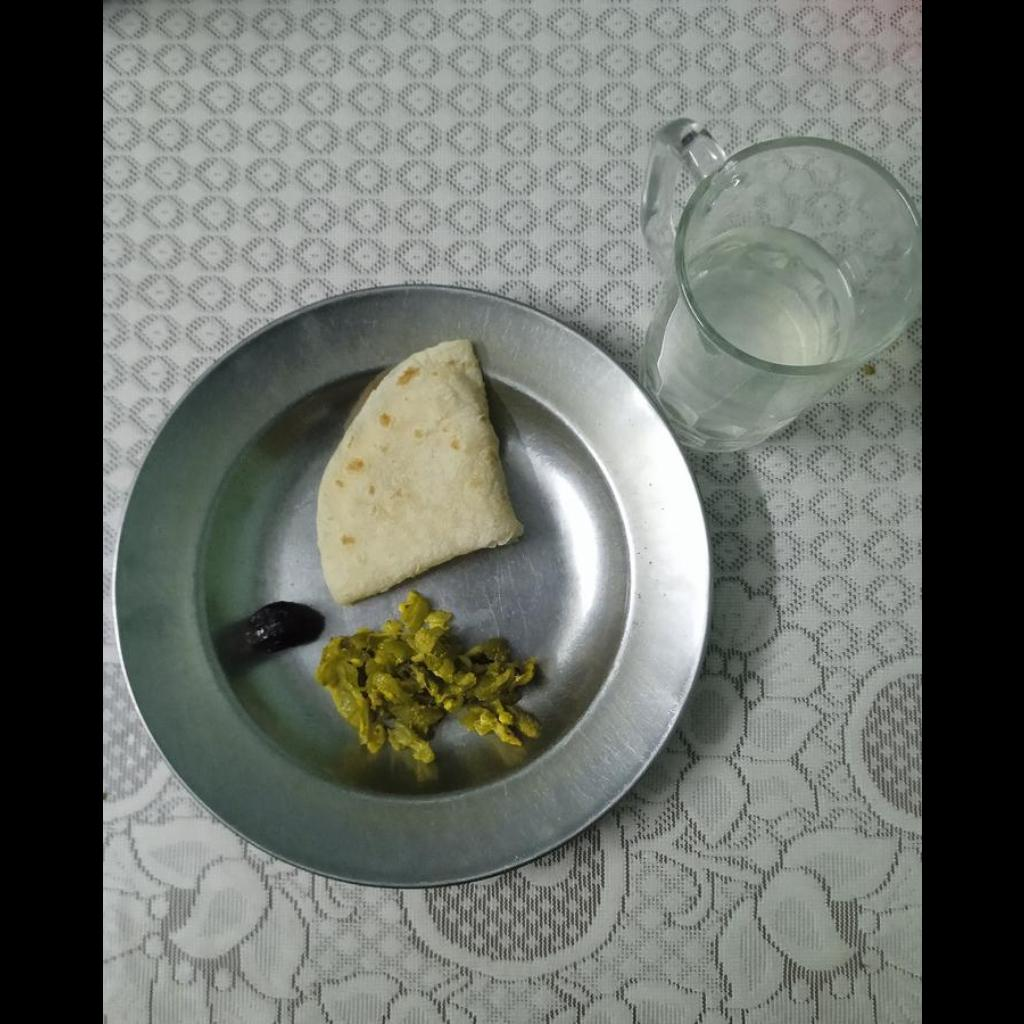chichinga-vaji: (317, 593, 539, 776)
dates: (244, 602, 323, 655)
ruti: (316, 339, 521, 604)
